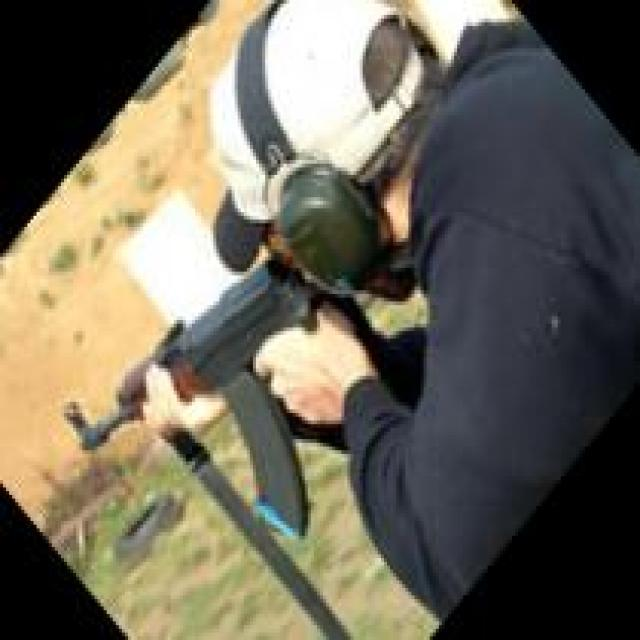weapon: (63, 252, 359, 544)
